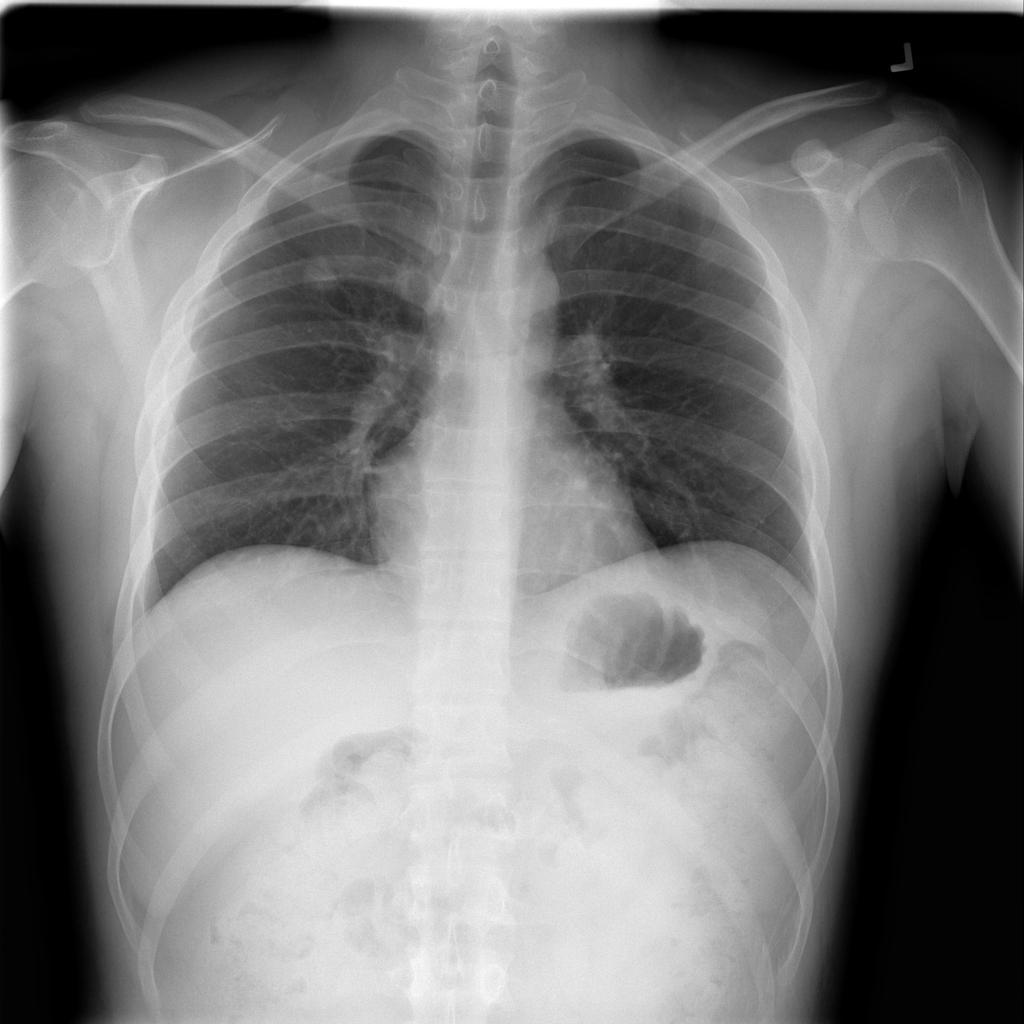nodule: (292, 249, 350, 299)
